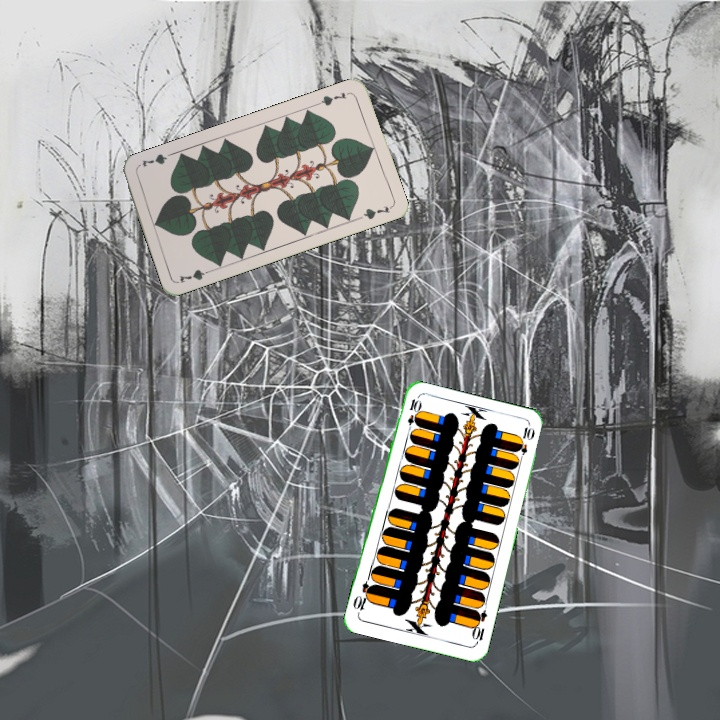E10: (468, 606, 490, 646), (403, 395, 421, 435)
G7: (175, 265, 215, 286), (313, 88, 353, 109)
